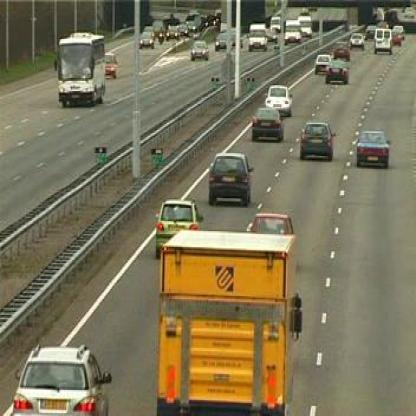other: (152, 221, 308, 413)
